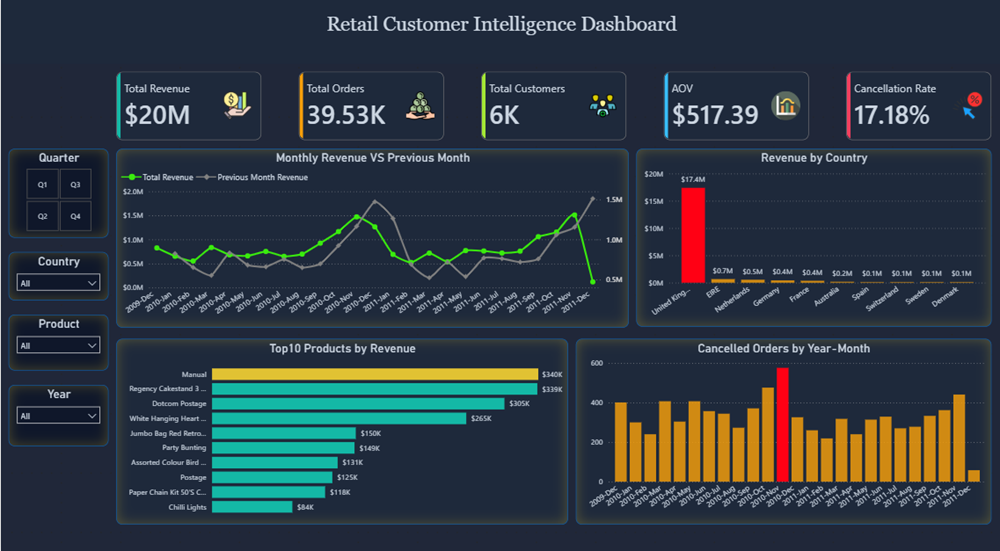

The page's visual inventory and layout, read from the dashboard file:
{"tool":"powerbi","page":{"name":"Overview","canvas":[1620,900],"ordinal":0},"visuals":[{"type":"lineChart","title":"Monthly Revenue VS Previous Month","fields":{"Category":["Date Table.Year-Month"],"Y":["online_retail_II.Total Revenue"],"Y2":["online_retail_II.Previous Month Revenue"]},"box":[186.7,243.6,828.4,289.8],"z":0},{"type":"columnChart","title":"Revenue by Country","fields":{"Y":["online_retail_II.Total Revenue"],"Category":["DimCountry.Country"]},"box":[1027.6,243.6,574.2,288],"z":1000},{"type":"clusteredBarChart","title":"Top10 Products by Revenue","fields":{"Category":["online_retail_II.Description"],"Y":["online_retail_II.Total Revenue"]},"box":[186.7,551.1,730.7,300.4],"z":2000},{"type":"clusteredColumnChart","fields":{"Category":["Date Table.Year-Month"],"Y":["online_retail_II.Cancelled Orders"]},"box":[929.8,551.1,672,300.4],"z":3000},{"type":"slicer","title":"Year","fields":{"Values":["Date Table.Year"]},"box":[12.4,625.8,161.8,99.6],"z":4000},{"type":"slicer","title":"Quarter","fields":{"Values":["Date Table.Quarter"]},"box":[12.4,243.6,161.8,144],"z":5000},{"type":"slicer","title":"Country","fields":{"Values":["DimCountry.Country"]},"box":[12.4,410.7,161.8,78.2],"z":6000},{"type":"slicer","title":"Product","fields":{"Values":["online_retail_II.Description"]},"box":[12.4,512,161.8,90.7],"z":7000},{"type":"cardVisual","fields":{"Data":["online_retail_II.Total Revenue"]},"box":[186.7,119.1,234.7,110.2],"z":8000},{"type":"cardVisual","title":"    📈 Total Revenue","fields":{"Data":["online_retail_II.Total Orders"]},"box":[481.8,119.1,234.7,110.2],"z":9000},{"type":"cardVisual","fields":{"Data":["online_retail_II.Total Customers"]},"box":[776.9,119.1,234.7,110.2],"z":10000},{"type":"cardVisual","fields":{"Data":["online_retail_II.AOV"]},"box":[1072,119.1,234.7,110.2],"z":11000},{"type":"cardVisual","fields":{"Data":["online_retail_II.Cancellation Rate"]},"box":[1367.1,119.1,234.7,110.2],"z":12000},{"type":"textbox","box":[0,0,1619.6,106.7],"z":13000}]}

Visuals, with their boxes in screenshot pixels (x1, y1, x2, y2), scaled from the page's 1620x900 canvas onto the 1000x551 screenshot:
"Monthly Revenue VS Previous Month" lineChart: bbox(115, 149, 627, 327)
"Revenue by Country" columnChart: bbox(634, 149, 989, 325)
"Top10 Products by Revenue" clusteredBarChart: bbox(115, 337, 566, 521)
clusteredColumnChart - Date Table.Year-Month x online_retail_II.Cancelled Orders: bbox(574, 337, 989, 521)
"Year" slicer: bbox(8, 383, 108, 444)
"Quarter" slicer: bbox(8, 149, 108, 237)
"Country" slicer: bbox(8, 251, 108, 299)
"Product" slicer: bbox(8, 313, 108, 369)
cardVisual - online_retail_II.Total Revenue: bbox(115, 73, 260, 140)
"    📈 Total Revenue" cardVisual: bbox(297, 73, 442, 140)
cardVisual - online_retail_II.Total Customers: bbox(480, 73, 624, 140)
cardVisual - online_retail_II.AOV: bbox(662, 73, 807, 140)
cardVisual - online_retail_II.Cancellation Rate: bbox(844, 73, 989, 140)
textbox: bbox(0, 0, 999, 65)
